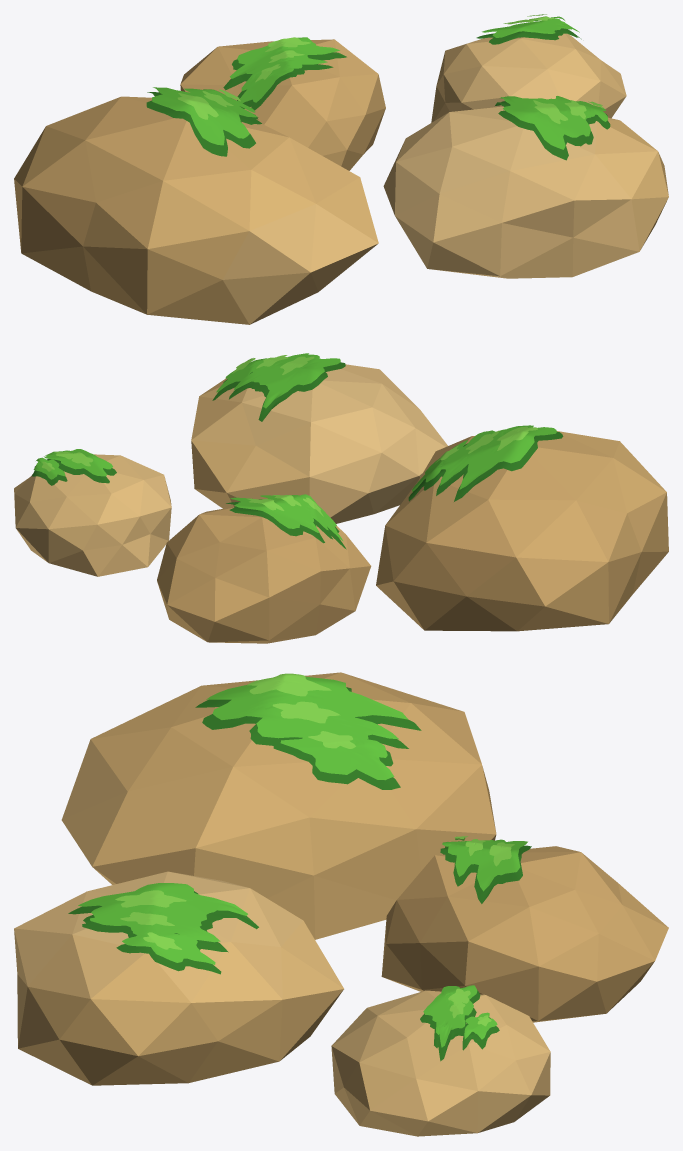
The model's file is rock_8_streak.glb.
The picture shows the model from 3 angles, top to bottom: view 1: azimuth 30°, elevation 25°; view 2: azimuth 150°, elevation 25°; view 3: azimuth 270°, elevation 25°; orthographic projection. The views are drawn at different scales.
Visible parts, largest first — view 1: rock_8_streak; view 2: rock_8_streak; view 3: rock_8_streak.
Boxes of the visible parts, x1,y1,x2,y2 form: rock_8_streak: [14, 14, 668, 324]; rock_8_streak: [14, 353, 668, 643]; rock_8_streak: [14, 672, 668, 1136].
Bounding box in the file's own units: 1.32 × 0.3592 × 1.02.
